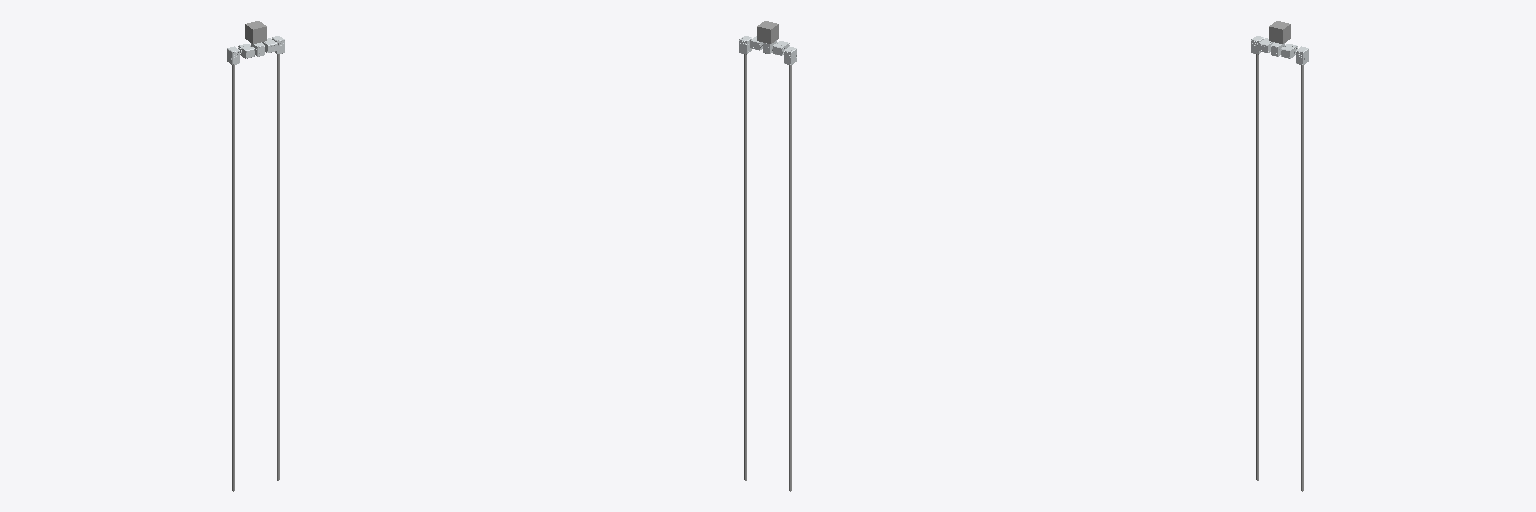
robot.urdf — chopstick_bot:
<?xml version='1.0' encoding='utf-8'?>
<robot name="chopstick_bot">
  <link name="world" />
  <joint name="world_to_base" type="fixed">
    <origin xyz="0.000000 0.000000 1.570000" rpy="0.000000 0.000000 0.000000" />
    <parent link="world" />
    <child link="base_motor_link" />
    </joint>
  <link name="base_motor_link">
    <visual>
      <origin xyz="0.000000 0.000000 0.000000" rpy="0.000000 0.000000 0.000000" />
      <geometry>
        <mesh filename="meshes/XL-430_new_coordinate_on_axis.STL" scale="0.001000 0.001000 0.001000" />
        </geometry>
      <material name="motor_mat">
        <color rgba="0.89804 0.91765 0.92941 1.0" />
        </material>
      </visual>
    <collision>
      <origin xyz="0.000000 -0.012000 0.000000" rpy="0.000000 0.000000 0.000000" />
      <geometry>
        <box size="0.028500 0.046500 0.034000" />
        </geometry>
      </collision>
    <inertial>
      <origin xyz="0.000000 -0.012000 0.000000" rpy="0.000000 0.000000 0.000000" />
      <mass value="0.065000" />
      <inertia ixx="0.000017973854" ixy="0" ixz="0" iyy="0.000010661354" iyz="0" izz="0.000016111875" />
      </inertial>
    </link>
  <link name="l_hip_pitch">
    <visual>
      <origin xyz="0.000000 0.000000 0.000000" rpy="0.000000 0.000000 0.000000" />
      <geometry>
        <mesh filename="meshes/XL-430_new_coordinate_on_axis.STL" scale="0.001000 0.001000 0.001000" />
        </geometry>
      <material name="motor_mat">
        <color rgba="0.89804 0.91765 0.92941 1.0" />
        </material>
      </visual>
    <collision>
      <origin xyz="0.000000 -0.012000 0.000000" rpy="0.000000 0.000000 0.000000" />
      <geometry>
        <box size="0.028500 0.046500 0.034000" />
        </geometry>
      </collision>
    <inertial>
      <origin xyz="0.000000 -0.012000 0.000000" rpy="0.000000 0.000000 0.000000" />
      <mass value="0.065000" />
      <inertia ixx="0.000017973854" ixy="0" ixz="0" iyy="0.000010661354" iyz="0" izz="0.000016111875" />
      </inertial>
    </link>
  <link name="l_hip_pitch_out">
    <inertial>
      <origin xyz="0.000000 0.000000 0.000000" rpy="0.000000 0.000000 0.000000" />
      <mass value="0.001000" />
      <inertia ixx="0.000000016667" ixy="0" ixz="0" iyy="0.000000016667" iyz="0" izz="0.000000016667" />
      </inertial>
    </link>
  <joint name="l_hip_pitch_mount_fixed" type="fixed">
    <origin xyz="-0.040000 0.000000 0.000000" rpy="0.000000 -1.570796 0.000000" />
    <parent link="base_motor_link" />
    <child link="l_hip_pitch" />
    </joint>
  <joint name="l_hip_pitch_joint" type="revolute">
    <origin xyz="0.000000 0.000000 0.000000" rpy="0.000000 0.000000 0.000000" />
    <parent link="l_hip_pitch" />
    <child link="l_hip_pitch_out" />
    <axis xyz="0.000000 0.000000 1.000000" />
    <limit lower="-3.14159" upper="3.14159" effort="5.0" velocity="8.0" />
    </joint>
  <link name="l_hip_roll">
    <visual>
      <origin xyz="0.000000 0.000000 0.000000" rpy="0.000000 0.000000 0.000000" />
      <geometry>
        <mesh filename="meshes/XL-430_new_coordinate_on_axis.STL" scale="0.001000 0.001000 0.001000" />
        </geometry>
      <material name="motor_mat">
        <color rgba="0.89804 0.91765 0.92941 1.0" />
        </material>
      </visual>
    <collision>
      <origin xyz="0.000000 -0.012000 0.000000" rpy="0.000000 0.000000 0.000000" />
      <geometry>
        <box size="0.028500 0.046500 0.034000" />
        </geometry>
      </collision>
    <inertial>
      <origin xyz="0.000000 -0.012000 0.000000" rpy="0.000000 0.000000 0.000000" />
      <mass value="0.065000" />
      <inertia ixx="0.000017973854" ixy="0" ixz="0" iyy="0.000010661354" iyz="0" izz="0.000016111875" />
      </inertial>
    </link>
  <link name="l_hip_roll_out">
    <inertial>
      <origin xyz="0.000000 0.000000 0.000000" rpy="0.000000 0.000000 0.000000" />
      <mass value="0.001000" />
      <inertia ixx="0.000000016667" ixy="0" ixz="0" iyy="0.000000016667" iyz="0" izz="0.000000016667" />
      </inertial>
    </link>
  <joint name="l_hip_roll_mount_fixed" type="fixed">
    <origin xyz="0.000000 0.000000 0.040000" rpy="0.000000 -1.570796 -1.570796" />
    <parent link="l_hip_pitch_out" />
    <child link="l_hip_roll" />
    </joint>
  <joint name="l_hip_roll_joint" type="revolute">
    <origin xyz="0.000000 0.000000 0.000000" rpy="0.000000 0.000000 0.000000" />
    <parent link="l_hip_roll" />
    <child link="l_hip_roll_out" />
    <axis xyz="0.000000 0.000000 1.000000" />
    <limit lower="-3.14159" upper="3.14159" effort="5.0" velocity="8.0" />
    </joint>
  <link name="l_end_effector">
    <visual>
      <origin xyz="0.000000 0.000000 0.000000" rpy="1.570796 0.000000 0.000000" />
      <geometry>
        <cylinder radius="0.005000" length="1.500000" />
        </geometry>
      <material name="cylinder_mat">
        <color rgba="0.7 0.7 0.7 1.0" />
        </material>
      </visual>
    <collision>
      <origin xyz="0.000000 -0.750000 0.000000" rpy="0.000000 0.000000 0.000000" />
      <geometry>
        <box size="0.020000 0.020000 0.020000" />
        </geometry>
      </collision>
    <inertial>
      <origin xyz="0.000000 0.000000 0.000000" rpy="0.000000 0.000000 0.000000" />
      <mass value="0.058905" />
      <inertia ixx="0.011045029828" ixy="0" ixz="0" iyy="0.011045029828" iyz="0" izz="0.000000736311" />
      </inertial>
    </link>
  <joint name="l_end_effector_fixed" type="fixed">
    <origin xyz="0.000000 -0.750000 0.000000" rpy="0.000000 0.000000 0.000000" />
    <parent link="l_hip_roll_out" />
    <child link="l_end_effector" />
    </joint>
  <link name="r_hip_pitch">
    <visual>
      <origin xyz="0.000000 0.000000 0.000000" rpy="0.000000 0.000000 0.000000" />
      <geometry>
        <mesh filename="meshes/XL-430_new_coordinate_on_axis.STL" scale="0.001000 0.001000 0.001000" />
        </geometry>
      <material name="motor_mat">
        <color rgba="0.89804 0.91765 0.92941 1.0" />
        </material>
      </visual>
    <collision>
      <origin xyz="0.000000 -0.012000 0.000000" rpy="0.000000 0.000000 0.000000" />
      <geometry>
        <box size="0.028500 0.046500 0.034000" />
        </geometry>
      </collision>
    <inertial>
      <origin xyz="0.000000 -0.012000 0.000000" rpy="0.000000 0.000000 0.000000" />
      <mass value="0.065000" />
      <inertia ixx="0.000017973854" ixy="0" ixz="0" iyy="0.000010661354" iyz="0" izz="0.000016111875" />
      </inertial>
    </link>
  <link name="r_hip_pitch_out">
    <inertial>
      <origin xyz="0.000000 0.000000 0.000000" rpy="0.000000 0.000000 0.000000" />
      <mass value="0.001000" />
      <inertia ixx="0.000000016667" ixy="0" ixz="0" iyy="0.000000016667" iyz="0" izz="0.000000016667" />
      </inertial>
    </link>
  <joint name="r_hip_pitch_mount_fixed" type="fixed">
    <origin xyz="0.040000 0.000000 0.000000" rpy="0.000000 1.570796 -0.000000" />
    <parent link="base_motor_link" />
    <child link="r_hip_pitch" />
    </joint>
  <joint name="r_hip_pitch_joint" type="revolute">
    <origin xyz="0.000000 0.000000 0.000000" rpy="0.000000 0.000000 0.000000" />
    <parent link="r_hip_pitch" />
    <child link="r_hip_pitch_out" />
    <axis xyz="0.000000 0.000000 1.000000" />
    <limit lower="-3.14159" upper="3.14159" effort="5.0" velocity="8.0" />
    </joint>
  <link name="r_hip_roll">
    <visual>
      <origin xyz="0.000000 0.000000 0.000000" rpy="0.000000 0.000000 0.000000" />
      <geometry>
        <mesh filename="meshes/XL-430_new_coordinate_on_axis.STL" scale="0.001000 0.001000 0.001000" />
        </geometry>
      <material name="motor_mat">
        <color rgba="0.89804 0.91765 0.92941 1.0" />
        </material>
      </visual>
    <collision>
      <origin xyz="0.000000 -0.012000 0.000000" rpy="0.000000 0.000000 0.000000" />
      <geometry>
        <box size="0.028500 0.046500 0.034000" />
        </geometry>
      </collision>
    <inertial>
      <origin xyz="0.000000 -0.012000 0.000000" rpy="0.000000 0.000000 0.000000" />
      <mass value="0.065000" />
      <inertia ixx="0.000017973854" ixy="0" ixz="0" iyy="0.000010661354" iyz="0" izz="0.000016111875" />
      </inertial>
    </link>
  <link name="r_hip_roll_out">
    <inertial>
      <origin xyz="0.000000 0.000000 0.000000" rpy="0.000000 0.000000 0.000000" />
      <mass value="0.001000" />
      <inertia ixx="0.000000016667" ixy="0" ixz="0" iyy="0.000000016667" iyz="0" izz="0.000000016667" />
      </inertial>
    </link>
  <joint name="r_hip_roll_mount_fixed" type="fixed">
    <origin xyz="-0.000000 0.000000 0.040000" rpy="0.000000 1.570796 1.570796" />
    <parent link="r_hip_pitch_out" />
    <child link="r_hip_roll" />
    </joint>
  <joint name="r_hip_roll_joint" type="revolute">
    <origin xyz="0.000000 0.000000 0.000000" rpy="0.000000 0.000000 0.000000" />
    <parent link="r_hip_roll" />
    <child link="r_hip_roll_out" />
    <axis xyz="0.000000 0.000000 1.000000" />
    <limit lower="-3.14159" upper="3.14159" effort="5.0" velocity="8.0" />
    </joint>
  <link name="r_end_effector">
    <visual>
      <origin xyz="0.000000 0.000000 0.000000" rpy="1.570796 0.000000 0.000000" />
      <geometry>
        <cylinder radius="0.005000" length="1.500000" />
        </geometry>
      <material name="cylinder_mat">
        <color rgba="0.7 0.7 0.7 1.0" />
        </material>
      </visual>
    <collision>
      <origin xyz="0.000000 -0.750000 0.000000" rpy="0.000000 0.000000 0.000000" />
      <geometry>
        <box size="0.020000 0.020000 0.020000" />
        </geometry>
      </collision>
    <inertial>
      <origin xyz="0.000000 0.000000 0.000000" rpy="0.000000 0.000000 0.000000" />
      <mass value="0.058905" />
      <inertia ixx="0.011045029828" ixy="0" ixz="0" iyy="0.011045029828" iyz="0" izz="0.000000736311" />
      </inertial>
    </link>
  <joint name="r_end_effector_fixed" type="fixed">
    <origin xyz="-0.000000 -0.750000 0.000000" rpy="0.000000 -0.000000 0.000000" />
    <parent link="r_hip_roll_out" />
    <child link="r_end_effector" />
    </joint>
  <link name="trunk_link">
    <visual>
      <origin xyz="0.000000 0.000000 0.000000" rpy="0.000000 0.000000 0.000000" />
      <geometry>
        <box size="0.050000 0.050000 0.050000" />
        </geometry>
      <material name="box_mat">
        <color rgba="0.7 0.7 0.7 1.0" />
        </material>
      </visual>
    <collision>
      <origin xyz="0.000000 0.000000 0.000000" rpy="0.000000 0.000000 0.000000" />
      <geometry>
        <box size="0.050000 0.050000 0.050000" />
        </geometry>
      </collision>
    <inertial>
      <origin xyz="0.000000 0.000000 0.000000" rpy="0.000000 0.000000 0.000000" />
      <mass value="0.200000" />
      <inertia ixx="0.000083333333" ixy="0" ixz="0" iyy="0.000083333333" iyz="0" izz="0.000083333333" />
      </inertial>
    </link>
  <joint name="base_to_trunk" type="revolute">
    <origin xyz="0.000000 0.000000 0.050000" rpy="0.000000 0.000000 0.000000" />
    <parent link="base_motor_link" />
    <child link="trunk_link" />
    <axis xyz="0.000000 0.000000 1.000000" />
    <limit lower="-3.14159" upper="3.14159" effort="5.0" velocity="8.0" />
    </joint>
  </robot>

--- Facts derived from the render (not from the file) ---
3 views of the same robot in one strip: view 1: azimuth 30°, elevation 25°; view 2: azimuth 150°, elevation 25°; view 3: azimuth 330°, elevation 25° (orthographic).
Robot: chopstick_bot — 13 links, 12 joints (5 revolute, 7 fixed); root link world; default pose: every joint at zero.
Links seen in each view (by area): view 1: l_end_effector, r_end_effector; view 2: l_end_effector, r_end_effector; view 3: l_end_effector, r_end_effector.
Link boxes in pixels (x1,y1,x2,y2): l_end_effector: (232, 65, 234, 491); r_end_effector: (277, 54, 279, 480); l_end_effector: (789, 65, 791, 491); r_end_effector: (744, 54, 746, 480); l_end_effector: (1256, 54, 1258, 480); r_end_effector: (1301, 65, 1303, 491).
Size in the robot's own frame: 0.1885 by 0.0602 by 1.57 metres.
Meshes: 1 distinct files referenced, 5 mesh visuals loaded (1 binary STL).
